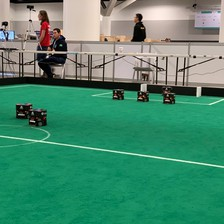goal: (139, 82, 201, 94)
robot: (26, 106, 48, 127), (14, 101, 29, 119), (161, 91, 175, 105), (135, 89, 149, 103), (111, 87, 125, 101), (160, 85, 172, 92)
